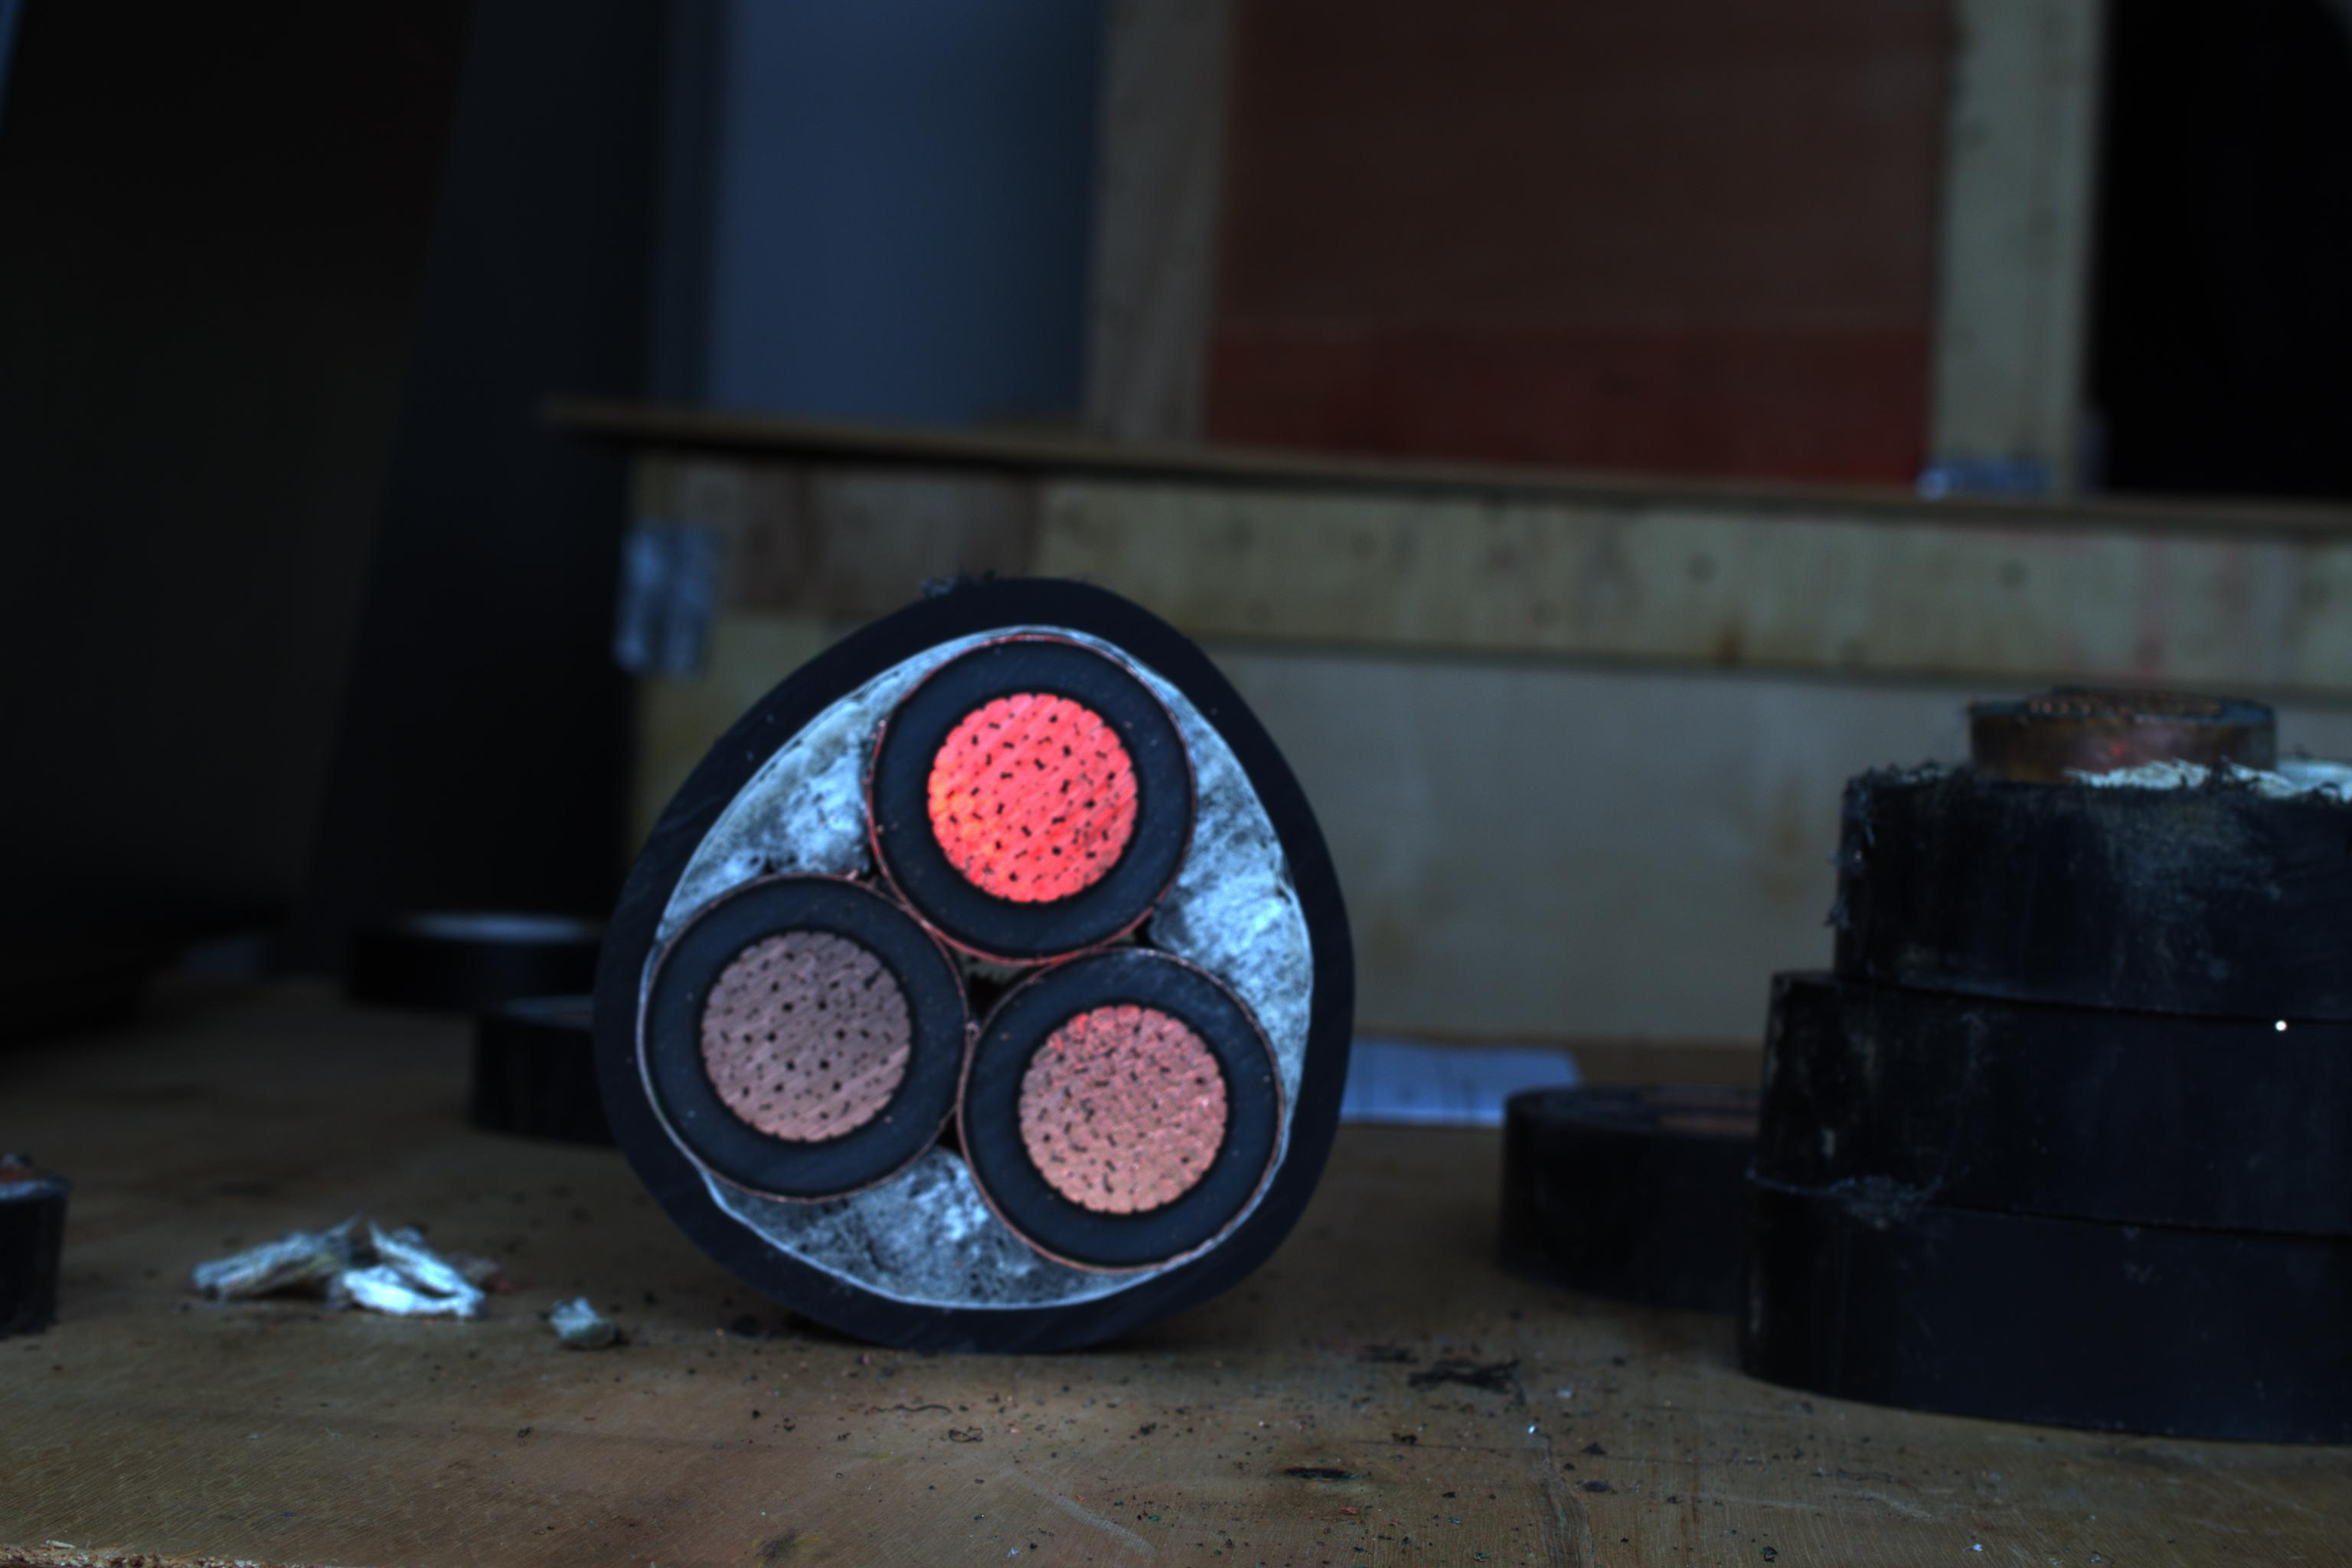ZA_YJV_8.7_10kV_3x400: (623, 581, 1372, 1347)
